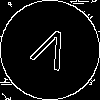V: (25, 25, 74, 80)
